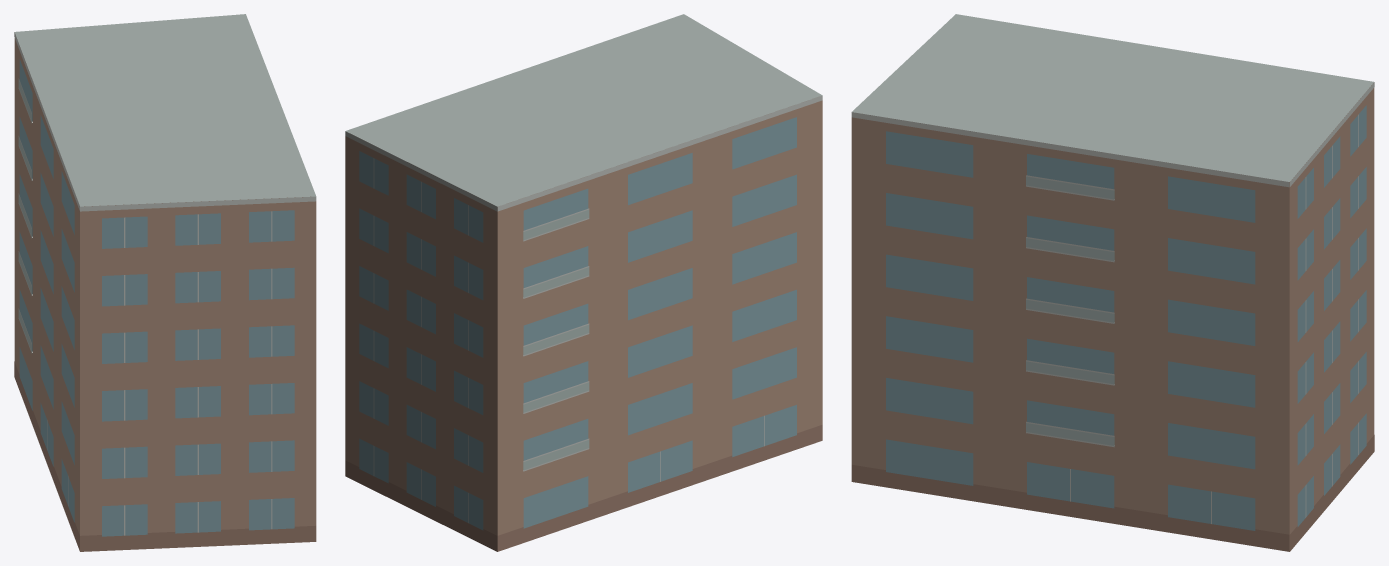
Rendered from survey-upis-32940955.glb.
The picture shows the model from 3 angles, left to right: view 1: azimuth 30°, elevation 25°; view 2: azimuth 150°, elevation 25°; view 3: azimuth 270°, elevation 25°; orthographic projection. The views are drawn at different scales.
Visible parts, largest first — view 1: survey-upis-32940955.tmp; view 2: survey-upis-32940955.tmp; view 3: survey-upis-32940955.tmp.
Part boxes in pixels (x1,y1,x2,y2): survey-upis-32940955.tmp: (14, 14, 316, 551); survey-upis-32940955.tmp: (345, 14, 822, 551); survey-upis-32940955.tmp: (851, 14, 1374, 551).
Size of the model in its own units: 16.68 by 17.1 by 21.93.
